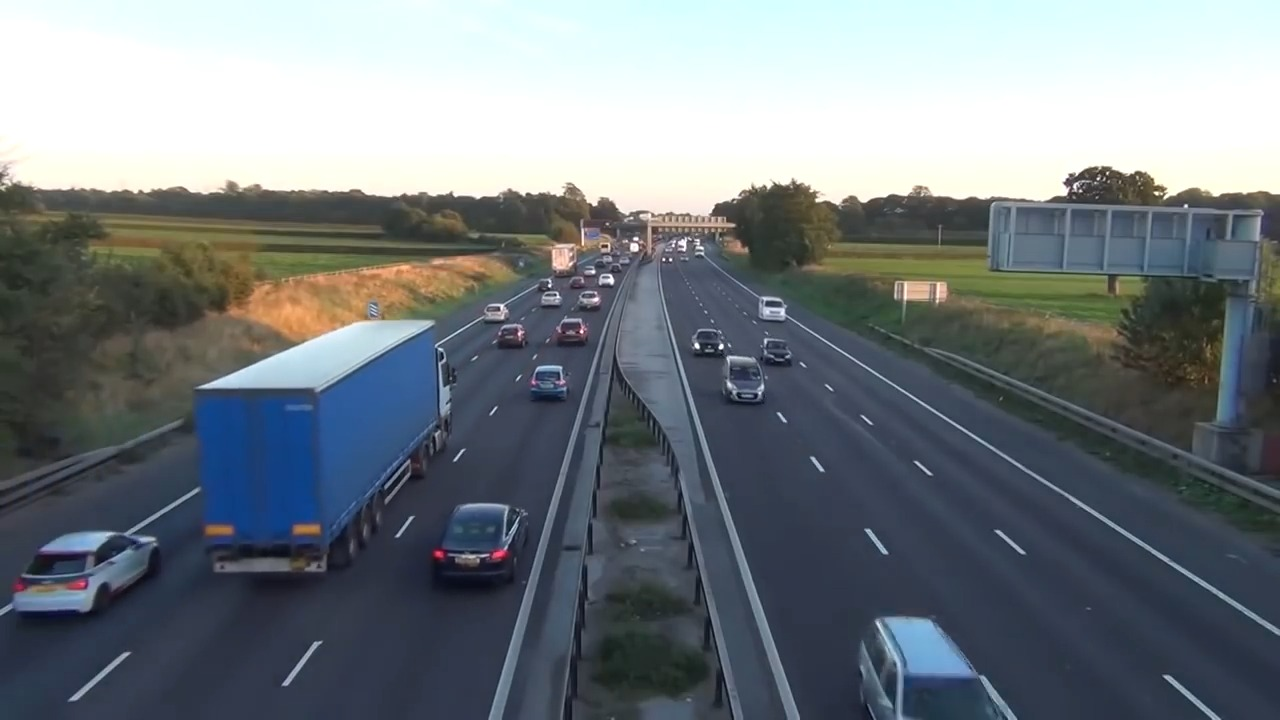truck: (192, 312, 456, 572)
